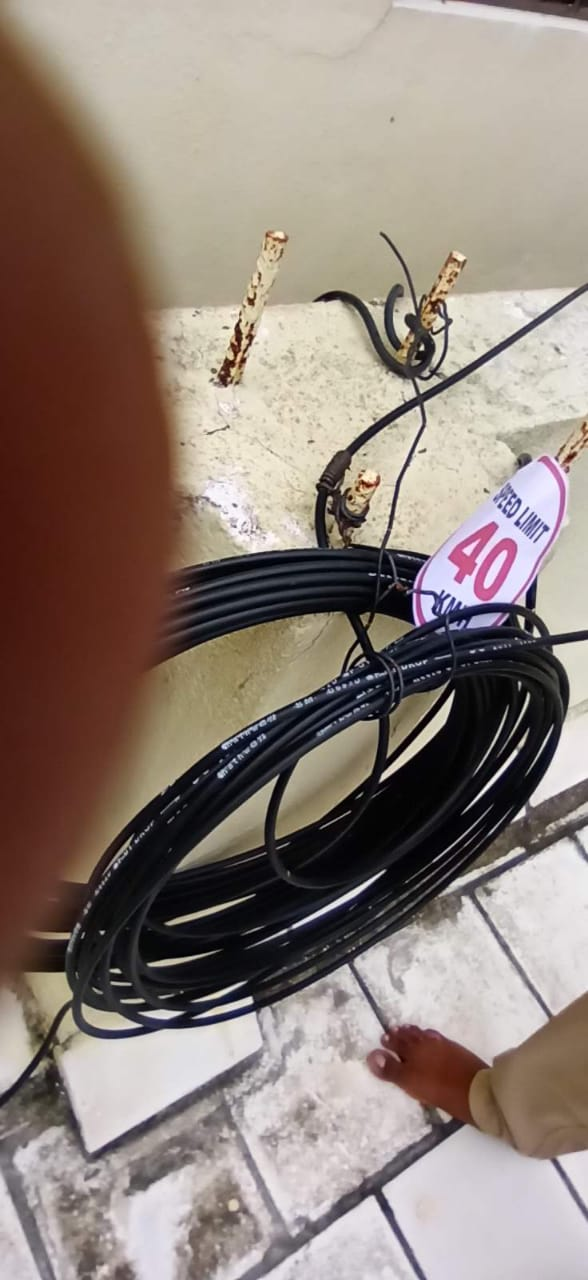SPEED LIMIT (40 KM/H): (401, 438, 575, 650)
